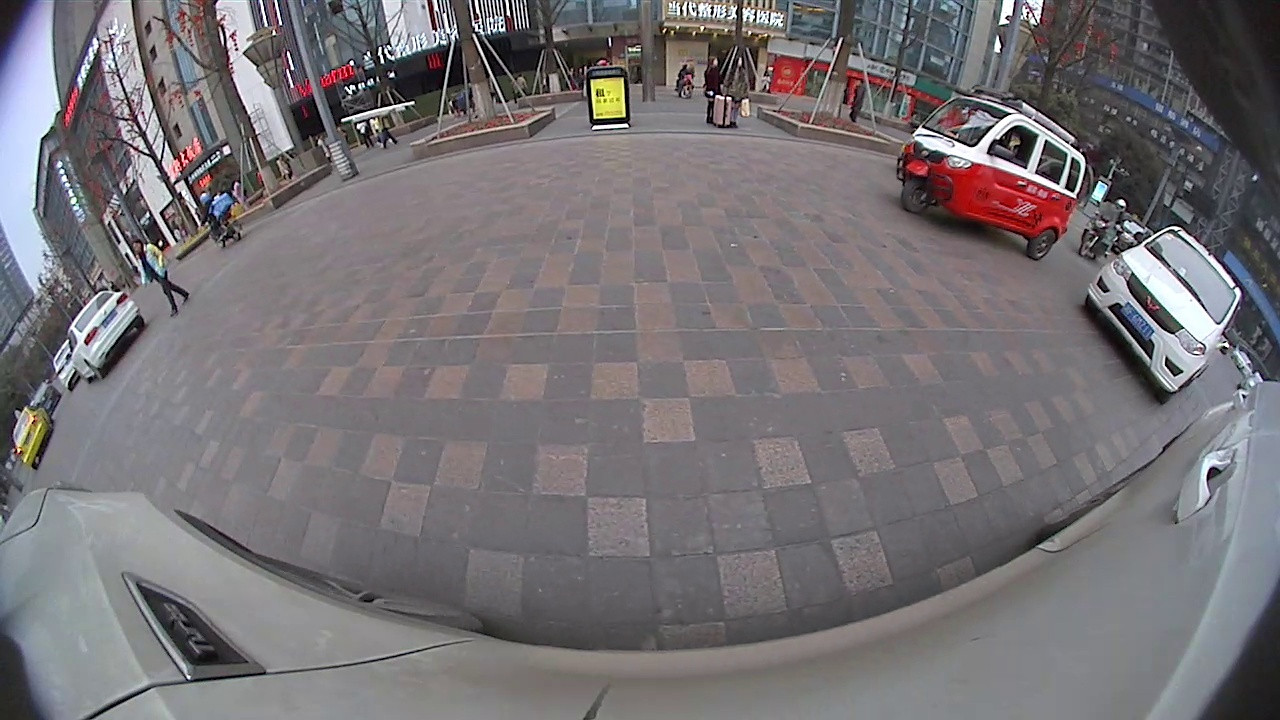car: (1081, 222, 1246, 406), (63, 287, 148, 384), (10, 401, 56, 472), (50, 336, 88, 394)
front: (897, 175, 933, 217)
person: (130, 237, 159, 315), (730, 54, 746, 128), (706, 50, 721, 124)
rear: (1024, 224, 1059, 262)
rider: (893, 88, 1095, 262), (192, 186, 243, 246)
